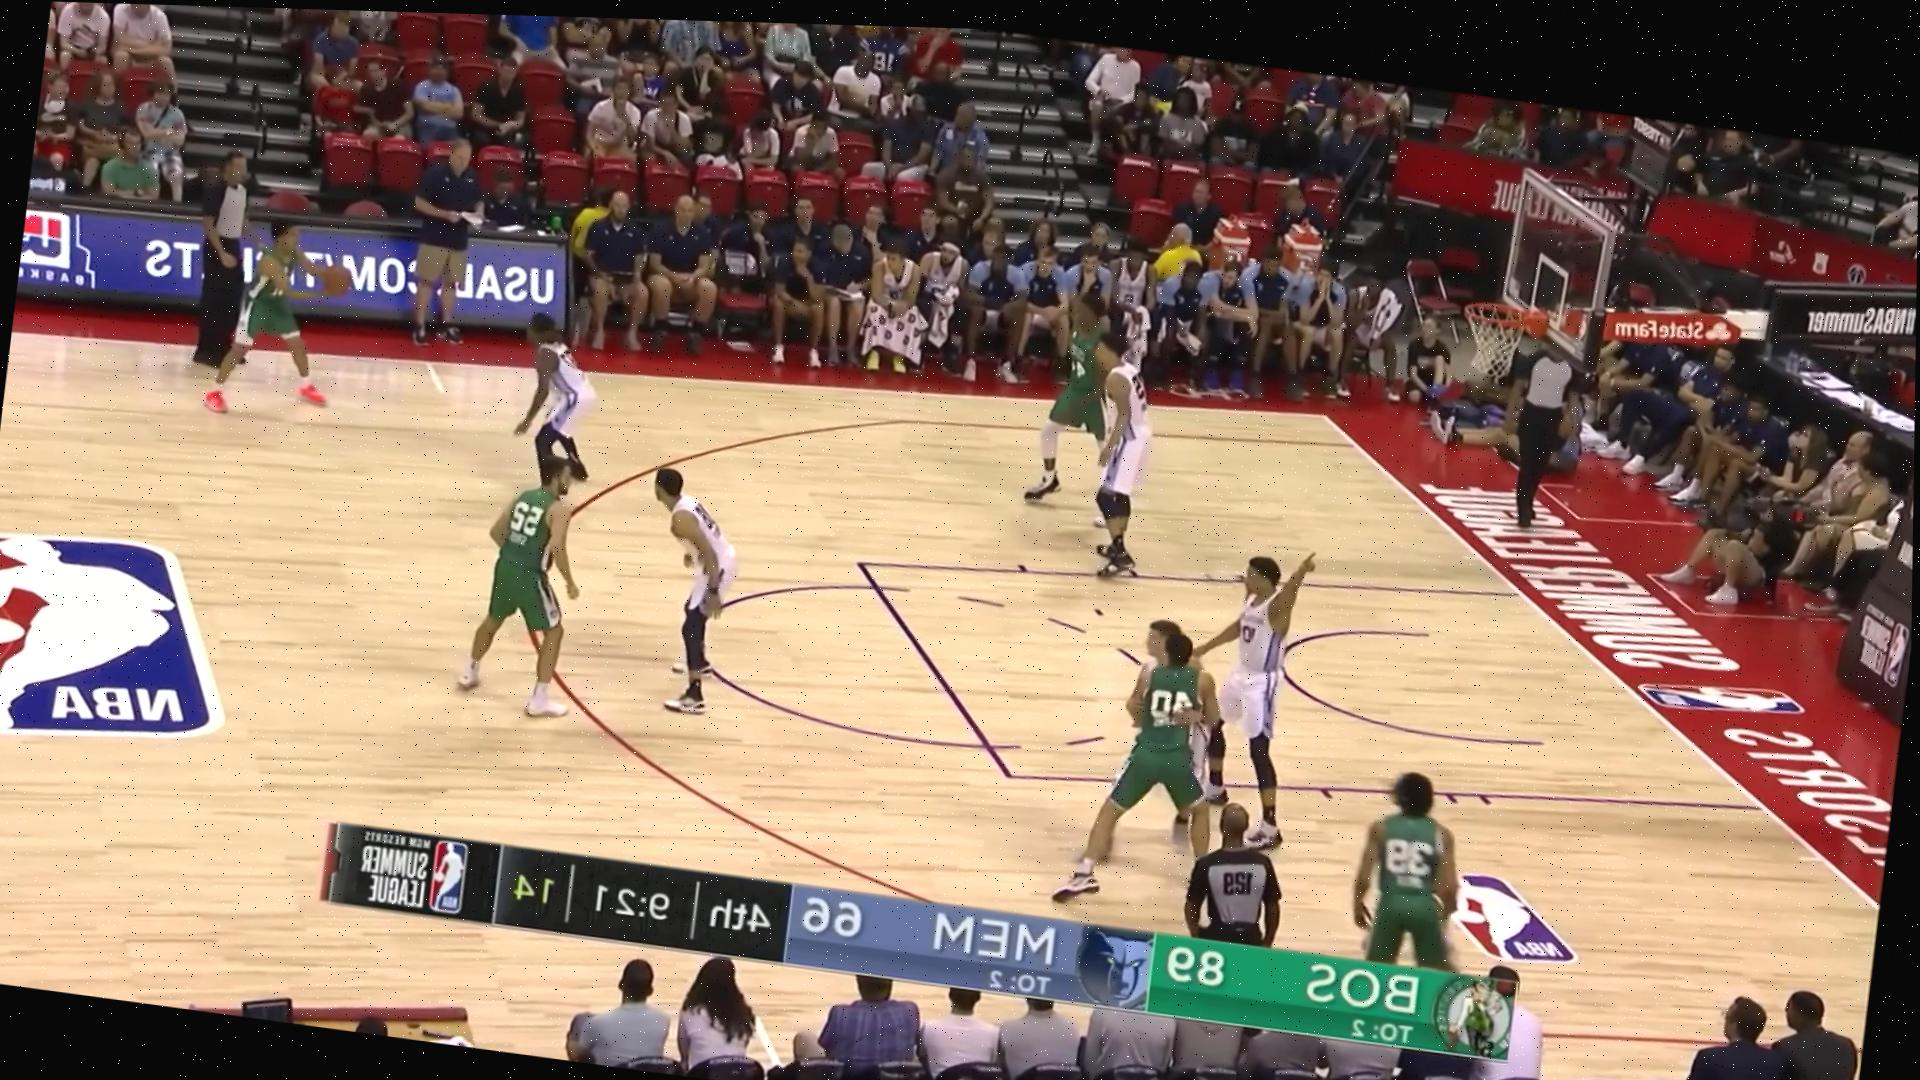no_foul: (431, 396, 827, 772)
